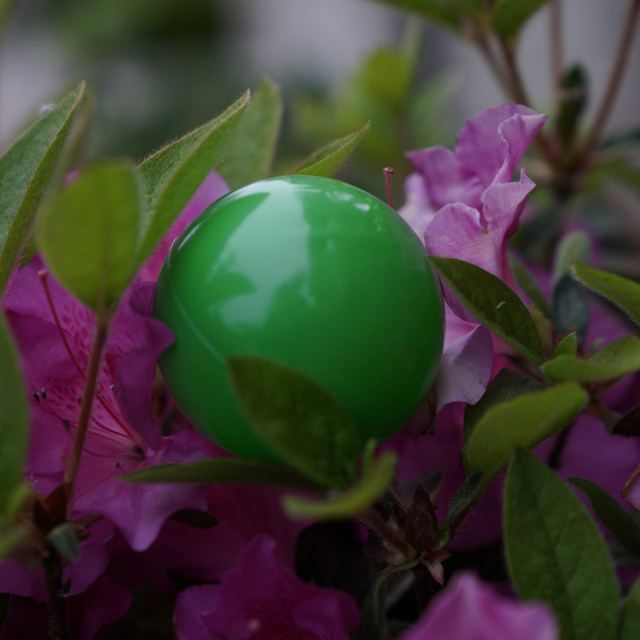Ball: (155, 171, 444, 467)
